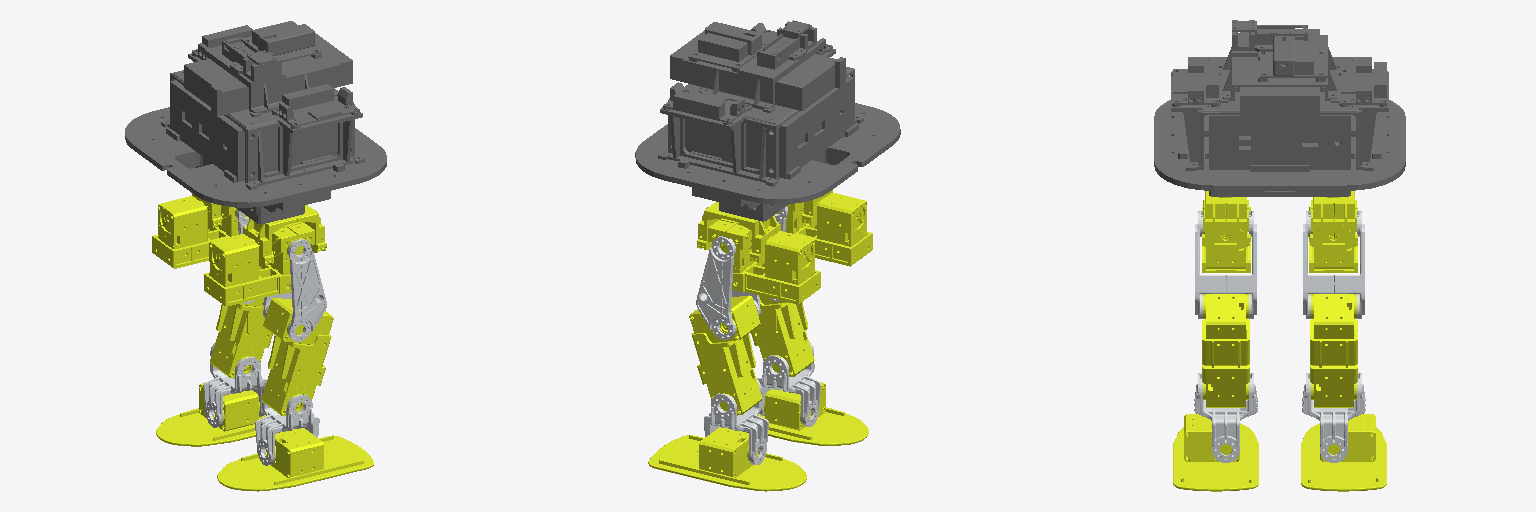
The robot description file, URDF, robot "exhx5_w_b_16":
<?xml version="1.0" encoding="utf-8"?>
<!-- This URDF was automatically created by SolidWorks to URDF Exporter! Originally created by [author] ([email redacted]) 
     Commit Version: 1.5.1-0-g916b5db  Build Version: 1.5.7152.31018
     For more information, please see http://wiki.ros.org/sw_urdf_exporter -->
<robot
  name="exhx5_w_b_16">
  <link
    name="body_link">
    <inertial>
      <origin
        xyz="0.00043545 0.00025536 0.10071"
        rpy="0 0 0" />
      <mass
        value="1.8238" />
      <inertia
        ixx="0.0025905"
        ixy="-5.6852E-06"
        ixz="-1.3106E-05"
        iyy="0.0024595"
        iyz="-1.261E-06"
        izz="0.0046407" />
    </inertial>
    <visual>
      <origin
        xyz="0 0 0"
        rpy="0 0 0" />
      <geometry>
        <mesh
          filename="../meshes/body_link.STL" />
      </geometry>
      <material
        name="">
        <color
          rgba="0.49804 0.49804 0.49804 1" />
      </material>
    </visual>
    <collision>
      <origin
        xyz="0 0 0"
        rpy="0 0 0" />
      <geometry>
        <mesh
          filename="../meshes/body_link.STL" />
      </geometry>
    </collision>
  </link>

  <link
    name="imu_link">
    <inertial>
      <origin
        xyz="-0.008387 1.336E-17 -0.0069463"
        rpy="0 0 0" />
      <mass
        value="0.0062931" />
      <inertia
        ixx="3.2242E-07"
        ixy="3.3527E-22"
        ixz="-6.9193E-08"
        iyy="9.2229E-07"
        iyz="-8.0392E-22"
        izz="1.1018E-06" />
    </inertial>
    <visual>
      <origin
        xyz="0 0 0"
        rpy="0 0 0" />
      <geometry>
        <mesh
          filename="../meshes/imu_link.STL" />
      </geometry>
      <material
        name="">
        <color
          rgba="0.79216 0.81961 0.93333 1" />
      </material>
    </visual>
    <collision>
      <origin
        xyz="0 0 0"
        rpy="0 0 0" />
      <geometry>
        <mesh
          filename="../meshes/imu_link.STL" />
      </geometry>
    </collision>
  </link>
  <joint
    name="imu"
    type="fixed">
    <origin
      xyz="0 0 0.0492"
      rpy="0 0 0" />
    <parent
      link="body_link" />
    <child
      link="imu_link" />
    <axis
      xyz="0 0 0" />
    <limit
      lower="-3.14"
      upper="3.14"
      effort="4"
      velocity="4" />
  </joint>
  <link
    name="l_hip_g_link">
    <inertial>
      <origin
        xyz="-0.0043797 -8.6604E-08 0.011813"
        rpy="0 0 0" />
      <mass
        value="0.061008" />
      <inertia
        ixx="1.167E-05"
        ixy="7.1767E-11"
        ixz="9.1442E-09"
        iyy="2.2342E-05"
        iyz="2.5177E-11"
        izz="2.4892E-05" />
    </inertial>
    <visual>
      <origin
        xyz="0 0 0"
        rpy="0 0 0" />
      <geometry>
        <mesh
          filename="../meshes/l_hip_g_link.STL" />
      </geometry>
      <material
        name="">
        <color
          rgba="0.9451 1 0.18431 1" />
      </material>
    </visual>
    <collision>
      <origin
        xyz="0 0 0"
        rpy="0 0 0" />
      <geometry>
        <mesh
          filename="../meshes/l_hip_g_link.STL" />
      </geometry>
    </collision>
  </link>
  <joint
    name="l_hip_g"
    type="fixed">
    <origin
      xyz=".001 0.045 0"
      rpy="0 0 0" />
    <parent
      link="body_link" />
    <child
      link="l_hip_g_link" />
    <axis
      xyz="0 0 0" />
  </joint>
  <link
    name="l_hip_roll_link">
    <inertial>
      <origin
        xyz="0.013831 0.00033457 0.025453"
        rpy="0 0 0" />
      <mass
        value="0.2969" />
      <inertia
        ixx="7.8136E-05"
        ixy="7.265E-07"
        ixz="-6.9809E-08"
        iyy="9.2183E-05"
        iyz="-5.6881E-11"
        izz="7.1034E-05" />
    </inertial>
    <visual>
      <origin
        xyz="0 0 0"
        rpy="0 0 0" />
      <geometry>
        <mesh
          filename="../meshes/l_hip_roll_link.STL" />
      </geometry>
      <material
        name="">
        <color
          rgba="0.9451 1 0.18431 1" />
      </material>
    </visual>
    <collision>
      <origin
        xyz="0 0 0"
        rpy="0 0 0" />
      <geometry>
        <mesh
          filename="../meshes/l_hip_roll_link.STL" />
      </geometry>
    </collision>
  </link>
  <joint
    name="l_hip_roll"
    type="revolute">
    <origin
      xyz="0 0 0"
      rpy="3.1416 1.5708 0" />
    <parent
      link="l_hip_g_link" />
    <child
      link="l_hip_roll_link" />
    <axis
      xyz="0 0 1" />
    <limit
      lower="-3.14"
      upper="3.14"
      effort="4"
      velocity="4" />
  </joint>
  <link
    name="l_hip_pitch_link">
    <inertial>
      <origin
        xyz="0.041225 -0.007321 -5.0713E-08"
        rpy="0 0 0" />
      <mass
        value="0.051592" />
      <inertia
        ixx="2.7959E-05"
        ixy="2.0752E-06"
        ixz="-8.0934E-11"
        iyy="4.8156E-05"
        iyz="3.6317E-11"
        izz="2.9604E-05" />
    </inertial>
    <visual>
      <origin
        xyz="0 0 0"
        rpy="0 0 0" />
      <geometry>
        <mesh
          filename="../meshes/l_hip_pitch_link.STL" />
      </geometry>
      <material
        name="">
        <color
          rgba="0.89804 0.91765 0.92941 1" />
      </material>
    </visual>
    <collision>
      <origin
        xyz="0 0 0"
        rpy="0 0 0" />
      <geometry>
        <mesh
          filename="../meshes/l_hip_pitch_link.STL" />
      </geometry>
    </collision>
  </link>
  <joint
    name="l_hip_pitch"
    type="revolute">
    <origin
      xyz="0 0 0"
      rpy="1.5708 0 0" />
    <parent
      link="l_hip_roll_link" />
    <child
      link="l_hip_pitch_link" />
    <axis
      xyz="0 0 1" />
    <limit
      lower="-3.14"
      upper="3.14"
      effort="4"
      velocity="4" />
  </joint>
  <link
    name="l_knee_link">
    <inertial>
      <origin
        xyz="0.033756 -0.0084189 -6.6115E-09"
        rpy="0 0 0" />
      <mass
        value="0.28878" />
      <inertia
        ixx="6.6724E-05"
        ixy="7.5004E-07"
        ixz="-8.4578E-07"
        iyy="6.5699E-05"
        iyz="4.1085E-07"
        izz="7.0381E-05" />
    </inertial>
    <visual>
      <origin
        xyz="0 0 0"
        rpy="0 0 0" />
      <geometry>
        <mesh
          filename="../meshes/l_knee_link.STL" />
      </geometry>
      <material
        name="">
        <color
          rgba="0.9451 1 0.18431 1" />
      </material>
    </visual>
    <collision>
      <origin
        xyz="0 0 0"
        rpy="0 0 0" />
      <geometry>
        <mesh
          filename="../meshes/l_knee_link.STL" />
      </geometry>
    </collision>
  </link>
  <joint
    name="l_knee"
    type="revolute">
    <origin
      xyz="0.075954 0 0"
      rpy="0 0 0" />
    <parent
      link="l_hip_pitch_link" />
    <child
      link="l_knee_link" />
    <axis
      xyz="0 0 1" />
    <limit
      lower="-3.14"
      upper="3.14"
      effort="4"
      velocity="4" />
  </joint>
  <link
    name="l_ank_pitch_link">
    <inertial>
      <origin
        xyz="0.022786 -7.3909E-09 -7.1981E-06"
        rpy="0 0 0" />
      <mass
        value="0.044772" />
      <inertia
        ixx="1.777E-05"
        ixy="8.555E-14"
        ixz="-3.3713E-09"
        iyy="1.7119E-05"
        iyz="1.7593E-11"
        izz="1.8661E-05" />
    </inertial>
    <visual>
      <origin
        xyz="0 0 0"
        rpy="0 0 0" />
      <geometry>
        <mesh
          filename="../meshes/l_ank_pitch_link.STL" />
      </geometry>
      <material
        name="">
        <color
          rgba="0.89804 0.91765 0.92941 1" />
      </material>
    </visual>
    <collision>
      <origin
        xyz="0 0 0"
        rpy="0 0 0" />
      <geometry>
        <mesh
          filename="../meshes/l_ank_pitch_link.STL" />
      </geometry>
    </collision>
  </link>
  <joint
    name="l_ank_pitch"
    type="revolute">
    <origin
      xyz="0.074602 0 0"
      rpy="3.1416 0 0" />
    <parent
      link="l_knee_link" />
    <child
      link="l_ank_pitch_link" />
    <axis
      xyz="0 0 1" />
    <limit
      lower="-3.14"
      upper="3.14"
      effort="4"
      velocity="4" />
  </joint>
  <link
    name="l_ank_roll_link">
    <inertial>
      <origin
        xyz="0.0047069 0.010728 0.0015299"
        rpy="0 0 0" />
      <mass
        value="0.16774" />
      <inertia
        ixx="0.00012039"
        ixy="-3.7428E-09"
        ixz="4.4069E-08"
        iyy="8.7735E-05"
        iyz="7.0469E-07"
        izz="4.7866E-05" />
    </inertial>
    <visual>
      <origin
        xyz="0 0 0"
        rpy="0 0 0" />
      <geometry>
        <mesh
          filename="../meshes/l_ank_roll_link.STL" />
      </geometry>
      <material
        name="">
        <color
          rgba="0.9451 1 0.18431 1" />
      </material>
    </visual>
    <collision>
      <origin
        xyz="0 0 0"
        rpy="0 0 0" />
      <geometry>
        <mesh
          filename="../meshes/l_ank_roll_link.STL" />
      </geometry>
    </collision>
  </link>
  <joint
    name="l_ank_roll"
    type="revolute">
    <origin
      xyz="0.0465 0 0"
      rpy="-1.5708 0 0" />
    <parent
      link="l_ank_pitch_link" />
    <child
      link="l_ank_roll_link" />
    <axis
      xyz="0 0 1" />
    <limit
      lower="-3.14"
      upper="3.14"
      effort="4"
      velocity="4" />
  </joint>
  <link
    name="r_hip_g_link">
    <inertial>
      <origin
        xyz="-0.0043797 -8.6604E-08 0.011813"
        rpy="0 0 0" />
      <mass
        value="0.061008" />
      <inertia
        ixx="1.167E-05"
        ixy="7.1767E-11"
        ixz="9.1442E-09"
        iyy="2.2342E-05"
        iyz="2.5177E-11"
        izz="2.4892E-05" />
    </inertial>
    <visual>
      <origin
        xyz="0 0 0"
        rpy="0 0 0" />
      <geometry>
        <mesh
          filename="../meshes/r_hip_g_link.STL" />
      </geometry>
      <material
        name="">
        <color
          rgba="0.9451 1 0.18431 1" />
      </material>
    </visual>
    <collision>
      <origin
        xyz="0 0 0"
        rpy="0 0 0" />
      <geometry>
        <mesh
          filename="../meshes/r_hip_g_link.STL" />
      </geometry>
    </collision>
  </link>
  <joint
    name="r_hip_g"
    type="fixed">
    <origin
      xyz=".001 -.045 0"
      rpy="0 0 0" />
    <parent
      link="body_link" />
    <child
      link="r_hip_g_link" />
    <axis
      xyz="0 0 0" />
  </joint>
  <link
    name="r_hip_roll_link">
    <inertial>
      <origin
        xyz="0.013831 0.00033457 0.025453"
        rpy="0 0 0" />
      <mass
        value="0.2969" />
      <inertia
        ixx="7.8136E-05"
        ixy="7.265E-07"
        ixz="-6.9809E-08"
        iyy="9.2183E-05"
        iyz="-5.6881E-11"
        izz="7.1034E-05" />
    </inertial>
    <visual>
      <origin
        xyz="0 0 0"
        rpy="0 0 0" />
      <geometry>
        <mesh
          filename="../meshes/r_hip_roll_link.STL" />
      </geometry>
      <material
        name="">
        <color
          rgba="0.9451 1 0.18431 1" />
      </material>
    </visual>
    <collision>
      <origin
        xyz="0 0 0"
        rpy="0 0 0" />
      <geometry>
        <mesh
          filename="../meshes/r_hip_roll_link.STL" />
      </geometry>
    </collision>
  </link>
  <joint
    name="r_hip_roll"
    type="revolute">
    <origin
      xyz="0 0 0"
      rpy="3.1416 1.5708 0" />
    <parent
      link="r_hip_g_link" />
    <child
      link="r_hip_roll_link" />
    <axis
      xyz="0 0 1" />
    <limit
      lower="-3.14"
      upper="3.14"
      effort="4"
      velocity="4" />
  </joint>
  <link
    name="r_hip_pitch_link">
    <inertial>
      <origin
        xyz="0.041225 0.007321 5.0713E-08"
        rpy="0 0 0" />
      <mass
        value="0.051592" />
      <inertia
        ixx="2.7959E-05"
        ixy="-2.0752E-06"
        ixz="8.0934E-11"
        iyy="4.8156E-05"
        iyz="3.6317E-11"
        izz="2.9604E-05" />
    </inertial>
    <visual>
      <origin
        xyz="0 0 0"
        rpy="0 0 0" />
      <geometry>
        <mesh
          filename="../meshes/r_hip_pitch_link.STL" />
      </geometry>
      <material
        name="">
        <color
          rgba="0.89804 0.91765 0.92941 1" />
      </material>
    </visual>
    <collision>
      <origin
        xyz="0 0 0"
        rpy="0 0 0" />
      <geometry>
        <mesh
          filename="../meshes/r_hip_pitch_link.STL" />
      </geometry>
    </collision>
  </link>
  <joint
    name="r_hip_pitch"
    type="revolute">
    <origin
      xyz="0 0 0"
      rpy="-1.5708 0 0" />
    <parent
      link="r_hip_roll_link" />
    <child
      link="r_hip_pitch_link" />
    <axis
      xyz="0 0 1" />
    <limit
      lower="-3.14"
      upper="3.14"
      effort="4"
      velocity="4" />
  </joint>
  <link
    name="r_knee_link">
    <inertial>
      <origin
        xyz="0.033757 0.0084176 6.6115E-09"
        rpy="0 0 0" />
      <mass
        value="0.28878" />
      <inertia
        ixx="6.6724E-05"
        ixy="-7.5008E-07"
        ixz="8.458E-07"
        iyy="6.5699E-05"
        iyz="4.1081E-07"
        izz="7.0381E-05" />
    </inertial>
    <visual>
      <origin
        xyz="0 0 0"
        rpy="0 0 0" />
      <geometry>
        <mesh
          filename="../meshes/r_knee_link.STL" />
      </geometry>
      <material
        name="">
        <color
          rgba="0.9451 1 0.18431 1" />
      </material>
    </visual>
    <collision>
      <origin
        xyz="0 0 0"
        rpy="0 0 0" />
      <geometry>
        <mesh
          filename="../meshes/r_knee_link.STL" />
      </geometry>
    </collision>
  </link>
  <joint
    name="r_knee"
    type="revolute">
    <origin
      xyz="0.075954 0 0"
      rpy="0 0 0" />
    <parent
      link="r_hip_pitch_link" />
    <child
      link="r_knee_link" />
    <axis
      xyz="0 0 1" />
    <limit
      lower="-3.14"
      upper="3.14"
      effort="4"
      velocity="4" />
  </joint>
  <link
    name="r_ank_pitch_link">
    <inertial>
      <origin
        xyz="0.025786 -7.3887E-09 -7.1981E-06"
        rpy="0 0 0" />
      <mass
        value="0.044772" />
      <inertia
        ixx="1.777E-05"
        ixy="8.5434E-14"
        ixz="-3.3713E-09"
        iyy="1.7119E-05"
        iyz="1.7592E-11"
        izz="1.8661E-05" />
    </inertial>
    <visual>
      <origin
        xyz="0 0 0"
        rpy="0 0 0" />
      <geometry>
        <mesh
          filename="../meshes/r_ank_pitch_link.STL" />
      </geometry>
      <material
        name="">
        <color
          rgba="0.89804 0.91765 0.92941 1" />
      </material>
    </visual>
    <collision>
      <origin
        xyz="0 0 0"
        rpy="0 0 0" />
      <geometry>
        <mesh
          filename="../meshes/r_ank_pitch_link.STL" />
      </geometry>
    </collision>
  </link>
  <joint
    name="r_ank_pitch"
    type="revolute">
    <origin
      xyz="0.071602 0 0"
      rpy="3.1416 0 0" />
    <parent
      link="r_knee_link" />
    <child
      link="r_ank_pitch_link" />
    <axis
      xyz="0 0 1" />
    <limit
      lower="-3.14"
      upper="3.14"
      effort="4"
      velocity="4" />
  </joint>
  <link
    name="r_ank_roll_link">
    <inertial>
      <origin
        xyz="0.0077069 -0.010728 0.0015299"
        rpy="0 0 0" />
      <mass
        value="0.16774" />
      <inertia
        ixx="0.00012039"
        ixy="3.743E-09"
        ixz="4.407E-08"
        iyy="8.7735E-05"
        iyz="-7.0467E-07"
        izz="4.7866E-05" />
    </inertial>
    <visual>
      <origin
        xyz="0 0 0"
        rpy="0 0 0" />
      <geometry>
        <mesh
          filename="../meshes/r_ank_roll_link.STL" />
      </geometry>
      <material
        name="">
        <color
          rgba="0.9451 1 0.18431 1" />
      </material>
    </visual>
    <collision>
      <origin
        xyz="0 0 0"
        rpy="0 0 0" />
      <geometry>
        <mesh
          filename="../meshes/r_ank_roll_link.STL" />
      </geometry>
    </collision>
  </link>
  <joint
    name="r_ank_roll"
    type="revolute">
    <origin
      xyz="0.0465 0 0"
      rpy="1.5708 0 0" />
    <parent
      link="r_ank_pitch_link" />
    <child
      link="r_ank_roll_link" />
    <axis
      xyz="0 0 1" />
    <limit
      lower="-3.14"
      upper="3.14"
      effort="4"
      velocity="4" />
  </joint>
  <transmission name="r_hip_roll_tran">
    <type>transmission_interface/SimpleTransmission</type>
    <joint name="r_hip_roll">
      <hardwareInterface>hardware_interface/EffortJointInterface</hardwareInterface>
    </joint>
    <actuator name="r_hip_roll_motor">
      <hardwareInterface>hardware_interface/EffortJointInterface</hardwareInterface>
      <mechanicalReduction>1</mechanicalReduction>
    </actuator>
  </transmission>
  <transmission name="r_hip_pitch_tran">
    <type>transmission_interface/SimpleTransmission</type>
    <joint name="r_hip_pitch">
      <hardwareInterface>hardware_interface/EffortJointInterface</hardwareInterface>
    </joint>
    <actuator name="r_hip_pitch_motor">
      <hardwareInterface>hardware_interface/EffortJointInterface</hardwareInterface>
      <mechanicalReduction>1</mechanicalReduction>
    </actuator>
  </transmission>
  <transmission name="r_knee_tran">
    <type>transmission_interface/SimpleTransmission</type>
    <joint name="r_knee">
      <hardwareInterface>hardware_interface/EffortJointInterface</hardwareInterface>
    </joint>
    <actuator name="r_knee_motor">
      <hardwareInterface>hardware_interface/EffortJointInterface</hardwareInterface>
      <mechanicalReduction>1</mechanicalReduction>
    </actuator>
  </transmission>
  <transmission name="r_ank_pitch_tran">
    <type>transmission_interface/SimpleTransmission</type>
    <joint name="r_ank_pitch">
      <hardwareInterface>hardware_interface/EffortJointInterface</hardwareInterface>
    </joint>
    <actuator name="r_ank_pitch_motor">
      <hardwareInterface>hardware_interface/EffortJointInterface</hardwareInterface>
      <mechanicalReduction>1</mechanicalReduction>
    </actuator>
  </transmission>
  <transmission name="r_ank_roll_tran">
    <type>transmission_interface/SimpleTransmission</type>
    <joint name="r_ank_roll">
      <hardwareInterface>hardware_interface/EffortJointInterface</hardwareInterface>
    </joint>
    <actuator name="r_ank_roll_motor">
      <hardwareInterface>hardware_interface/EffortJointInterface</hardwareInterface>
      <mechanicalReduction>1</mechanicalReduction>
    </actuator>
  </transmission>
  <transmission name="l_hip_roll_tran">
    <type>transmission_interface/SimpleTransmission</type>
    <joint name="l_hip_roll">
      <hardwareInterface>hardware_interface/EffortJointInterface</hardwareInterface>
    </joint>
    <actuator name="l_hip_roll_motor">
      <hardwareInterface>hardware_interface/EffortJointInterface</hardwareInterface>
      <mechanicalReduction>1</mechanicalReduction>
    </actuator>
  </transmission>
  <transmission name="l_hip_pitch_tran">
    <type>transmission_interface/SimpleTransmission</type>
    <joint name="l_hip_pitch">
      <hardwareInterface>hardware_interface/EffortJointInterface</hardwareInterface>
    </joint>
    <actuator name="l_hip_pitch_motor">
      <hardwareInterface>hardware_interface/EffortJointInterface</hardwareInterface>
      <mechanicalReduction>1</mechanicalReduction>
    </actuator>
  </transmission>
  <transmission name="l_knee_tran">
    <type>transmission_interface/SimpleTransmission</type>
    <joint name="l_knee">
      <hardwareInterface>hardware_interface/EffortJointInterface</hardwareInterface>
    </joint>
    <actuator name="l_knee_motor">
      <hardwareInterface>hardware_interface/EffortJointInterface</hardwareInterface>
      <mechanicalReduction>1</mechanicalReduction>
    </actuator>
  </transmission>
  <transmission name="l_ank_pitch_tran">
    <type>transmission_interface/SimpleTransmission</type>
    <joint name="l_ank_pitch">
      <hardwareInterface>hardware_interface/EffortJointInterface</hardwareInterface>
    </joint>
    <actuator name="l_ank_pitch_motor">
      <hardwareInterface>hardware_interface/EffortJointInterface</hardwareInterface>
      <mechanicalReduction>1</mechanicalReduction>
    </actuator>
  </transmission>
  <transmission name="l_ank_roll_tran">
    <type>transmission_interface/SimpleTransmission</type>
    <joint name="l_ank_roll">
      <hardwareInterface>hardware_interface/EffortJointInterface</hardwareInterface>
    </joint>
    <actuator name="l_ank_roll_motor">
      <hardwareInterface>hardware_interface/EffortJointInterface</hardwareInterface>
      <mechanicalReduction>1</mechanicalReduction>
    </actuator>
  </transmission>
</robot>

--- Render facts (derived) ---
The picture shows the robot from 3 angles, left to right: view 1: azimuth 30°, elevation 25°; view 2: azimuth 150°, elevation 25°; view 3: azimuth 270°, elevation 25°; orthographic projection.
Robot: exhx5_w_b_16 — 14 links, 13 joints (10 revolute, 3 fixed); root link body_link; default pose: all joints at 0.
Visible links, largest first — view 1: body_link, r_ank_roll_link, r_hip_roll_link, r_knee_link, l_hip_roll_link, l_ank_roll_link, l_knee_link, r_hip_pitch_link, r_ank_pitch_link, l_ank_pitch_link, r_hip_g_link; view 2: body_link, l_ank_roll_link, l_hip_roll_link, l_knee_link, r_hip_roll_link, r_ank_roll_link, r_knee_link, l_hip_pitch_link, l_ank_pitch_link, r_ank_pitch_link, l_hip_g_link; view 3: body_link, l_knee_link, r_knee_link, l_ank_roll_link, r_ank_roll_link, l_hip_pitch_link, r_hip_pitch_link, l_hip_g_link, r_hip_g_link, l_ank_pitch_link, r_ank_pitch_link, l_hip_roll_link (+1 smaller).
Boxes of the visible links, x1=… form: body_link: x1=125, y1=21, x2=386, y2=224; r_ank_roll_link: x1=217, y1=428, x2=373, y2=491; r_hip_roll_link: x1=204, y1=222, x2=314, y2=306; r_knee_link: x1=261, y1=298, x2=333, y2=415; l_hip_roll_link: x1=152, y1=196, x2=247, y2=268; l_ank_roll_link: x1=156, y1=383, x2=265, y2=446; l_knee_link: x1=210, y1=298, x2=272, y2=378; r_hip_pitch_link: x1=263, y1=239, x2=326, y2=341; r_ank_pitch_link: x1=255, y1=379, x2=319, y2=465; l_ank_pitch_link: x1=203, y1=342, x2=265, y2=427; r_hip_g_link: x1=243, y1=205, x2=326, y2=266; body_link: x1=635, y1=20, x2=900, y2=221; l_ank_roll_link: x1=648, y1=427, x2=806, y2=491; l_hip_roll_link: x1=708, y1=218, x2=820, y2=304; l_knee_link: x1=689, y1=295, x2=762, y2=415; r_hip_roll_link: x1=776, y1=193, x2=872, y2=266; r_ank_roll_link: x1=758, y1=382, x2=868, y2=445; r_knee_link: x1=751, y1=295, x2=814, y2=376; l_hip_pitch_link: x1=696, y1=236, x2=760, y2=339; l_ank_pitch_link: x1=704, y1=378, x2=768, y2=464; r_ank_pitch_link: x1=757, y1=341, x2=820, y2=426; l_hip_g_link: x1=697, y1=202, x2=780, y2=263; body_link: x1=1154, y1=20, x2=1405, y2=196; l_knee_link: x1=1310, y1=294, x2=1357, y2=407; r_knee_link: x1=1202, y1=294, x2=1249, y2=407; l_ank_roll_link: x1=1301, y1=414, x2=1386, y2=491; r_ank_roll_link: x1=1173, y1=414, x2=1258, y2=491; l_hip_pitch_link: x1=1303, y1=211, x2=1364, y2=318; r_hip_pitch_link: x1=1195, y1=211, x2=1256, y2=318; l_hip_g_link: x1=1309, y1=191, x2=1357, y2=247; r_hip_g_link: x1=1202, y1=191, x2=1250, y2=247; l_ank_pitch_link: x1=1302, y1=373, x2=1365, y2=462; r_ank_pitch_link: x1=1194, y1=373, x2=1257, y2=462; l_hip_roll_link: x1=1309, y1=200, x2=1357, y2=272.
Bounding box of the posed robot: 0.185 × 0.21 × 0.3893 m (x, y, z).
Meshes: 14 distinct files referenced, 14 mesh visuals loaded (14 binary STL).